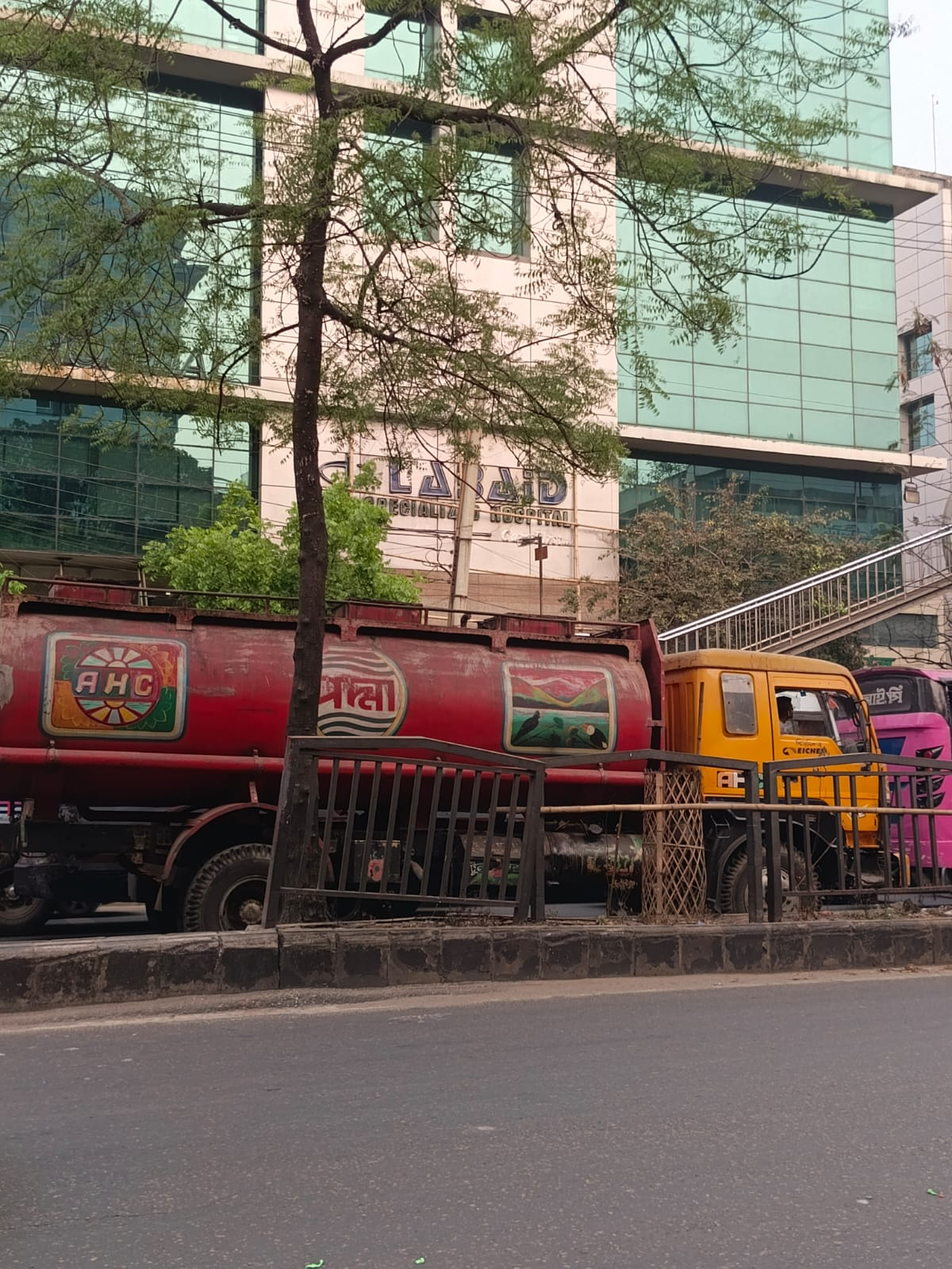Truck: (0, 557, 896, 925)
